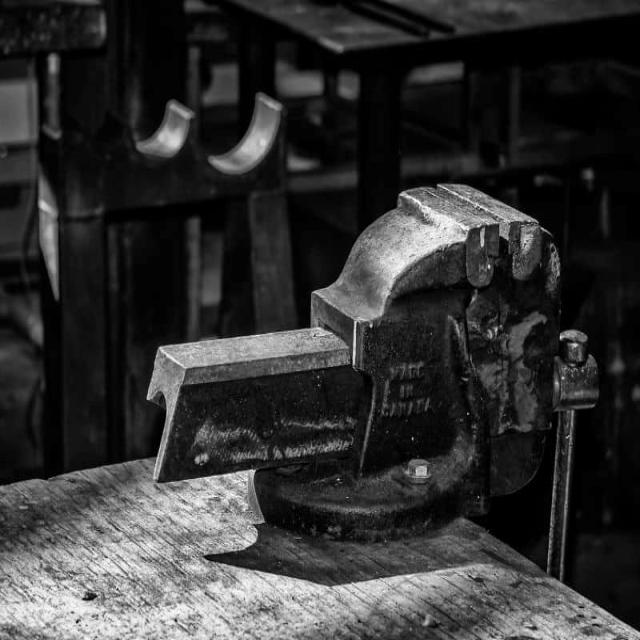vise: (128, 186, 614, 624)
